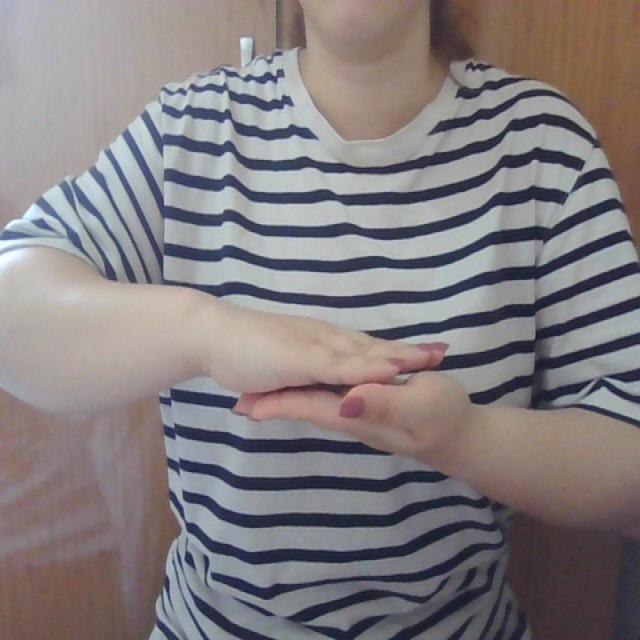Arkadas: (100, 299, 600, 473)
